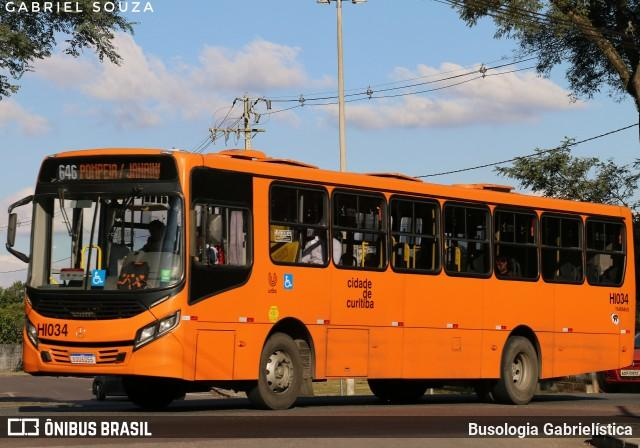POMPEIA JANAINA: (75, 159, 168, 184)
